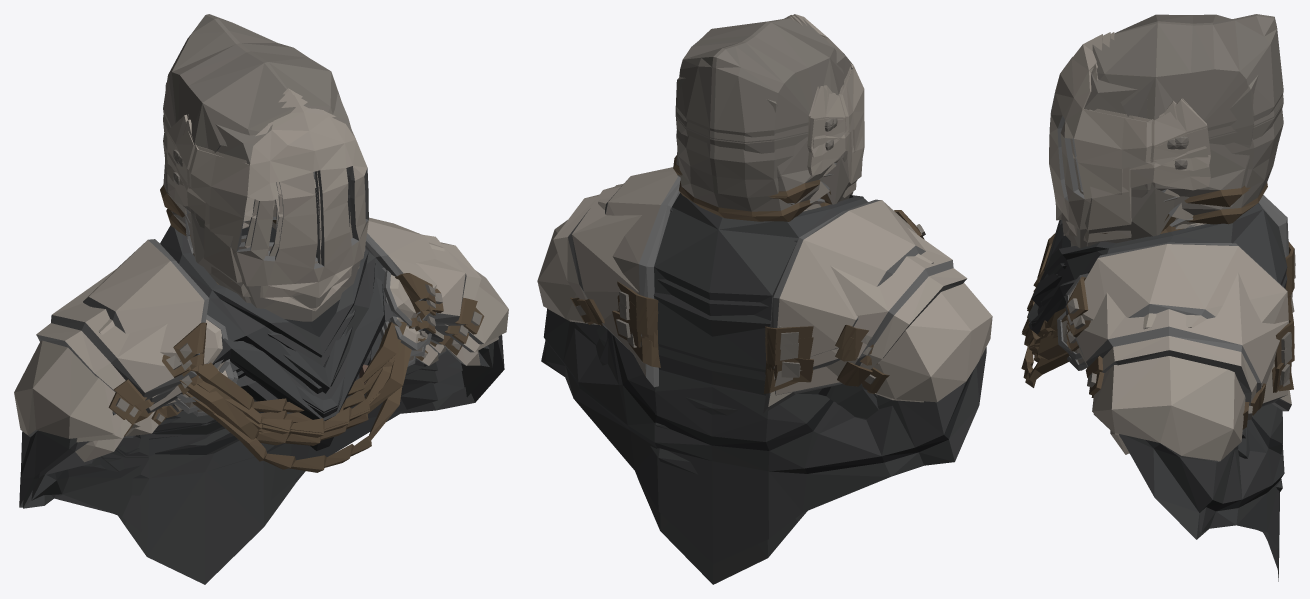
File: ARMORS_mantlehelm_02.fbx
The picture shows the model from 3 angles, left to right: view 1: azimuth 30°, elevation 25°; view 2: azimuth 150°, elevation 25°; view 3: azimuth 270°, elevation 25°; orthographic projection. The views are drawn at different scales.
Visible parts, largest first — view 1: ARMOR_SellswordHelm_01t:wizard_m, ARMOR_SellswordHelm_01t:warrior_m, ARMOR_SellswordHelm_01t:rogue_m, ARMOR_SellswordHelm_01t:warrior_f, ARMOR_SellswordHelm_01t:archer_m, ARMOR_SellswordHelm_01t:rogue_f, ARMOR_SellswordHelm_01t:wizard_f, ARMOR_SellswordHelm_01t:base_armor, ARMOR_SellswordHelm_01t:archer_f; view 2: ARMOR_SellswordHelm_01t:wizard_m, ARMOR_SellswordHelm_01t:warrior_m, ARMOR_SellswordHelm_01t:base_armor, ARMOR_SellswordHelm_01t:warrior_f, ARMOR_SellswordHelm_01t:rogue_m, ARMOR_SellswordHelm_01t:wizard_f, ARMOR_SellswordHelm_01t:rogue_f, ARMOR_SellswordHelm_01t:archer_f, ARMOR_SellswordHelm_01t:archer_m; view 3: ARMOR_SellswordHelm_01t:wizard_m, ARMOR_SellswordHelm_01t:warrior_m, ARMOR_SellswordHelm_01t:rogue_m, ARMOR_SellswordHelm_01t:wizard_f, ARMOR_SellswordHelm_01t:warrior_f, ARMOR_SellswordHelm_01t:base_armor, ARMOR_SellswordHelm_01t:rogue_f, ARMOR_SellswordHelm_01t:archer_f, ARMOR_SellswordHelm_01t:archer_m.
Boxes of the visible parts, x1,y1,x2,y2 form: ARMOR_SellswordHelm_01t:wizard_m: (83,14,458,452); ARMOR_SellswordHelm_01t:warrior_m: (14,234,508,507); ARMOR_SellswordHelm_01t:rogue_m: (88,93,489,470); ARMOR_SellswordHelm_01t:warrior_f: (96,132,445,584); ARMOR_SellswordHelm_01t:archer_m: (31,89,489,531); ARMOR_SellswordHelm_01t:rogue_f: (106,120,446,560); ARMOR_SellswordHelm_01t:wizard_f: (160,119,422,433); ARMOR_SellswordHelm_01t:base_armor: (23,82,498,513); ARMOR_SellswordHelm_01t:archer_f: (116,114,384,457); ARMOR_SellswordHelm_01t:wizard_m: (598,18,933,414); ARMOR_SellswordHelm_01t:warrior_m: (537,186,992,465); ARMOR_SellswordHelm_01t:base_armor: (545,16,923,563); ARMOR_SellswordHelm_01t:warrior_f: (596,128,856,584); ARMOR_SellswordHelm_01t:rogue_m: (617,14,878,429); ARMOR_SellswordHelm_01t:wizard_f: (596,67,863,370); ARMOR_SellswordHelm_01t:rogue_f: (647,117,850,565); ARMOR_SellswordHelm_01t:archer_f: (600,86,845,371); ARMOR_SellswordHelm_01t:archer_m: (678,15,846,142); ARMOR_SellswordHelm_01t:wizard_m: (1040,14,1295,443); ARMOR_SellswordHelm_01t:warrior_m: (1028,220,1292,539); ARMOR_SellswordHelm_01t:rogue_m: (1037,34,1295,456); ARMOR_SellswordHelm_01t:wizard_f: (1022,109,1273,434); ARMOR_SellswordHelm_01t:warrior_f: (1021,109,1294,581); ARMOR_SellswordHelm_01t:base_armor: (1033,32,1285,557); ARMOR_SellswordHelm_01t:rogue_f: (1022,102,1290,561); ARMOR_SellswordHelm_01t:archer_f: (1154,99,1289,438); ARMOR_SellswordHelm_01t:archer_m: (1066,32,1283,559).
Bounding box in the file's own units: 488 × 574 × 250.
